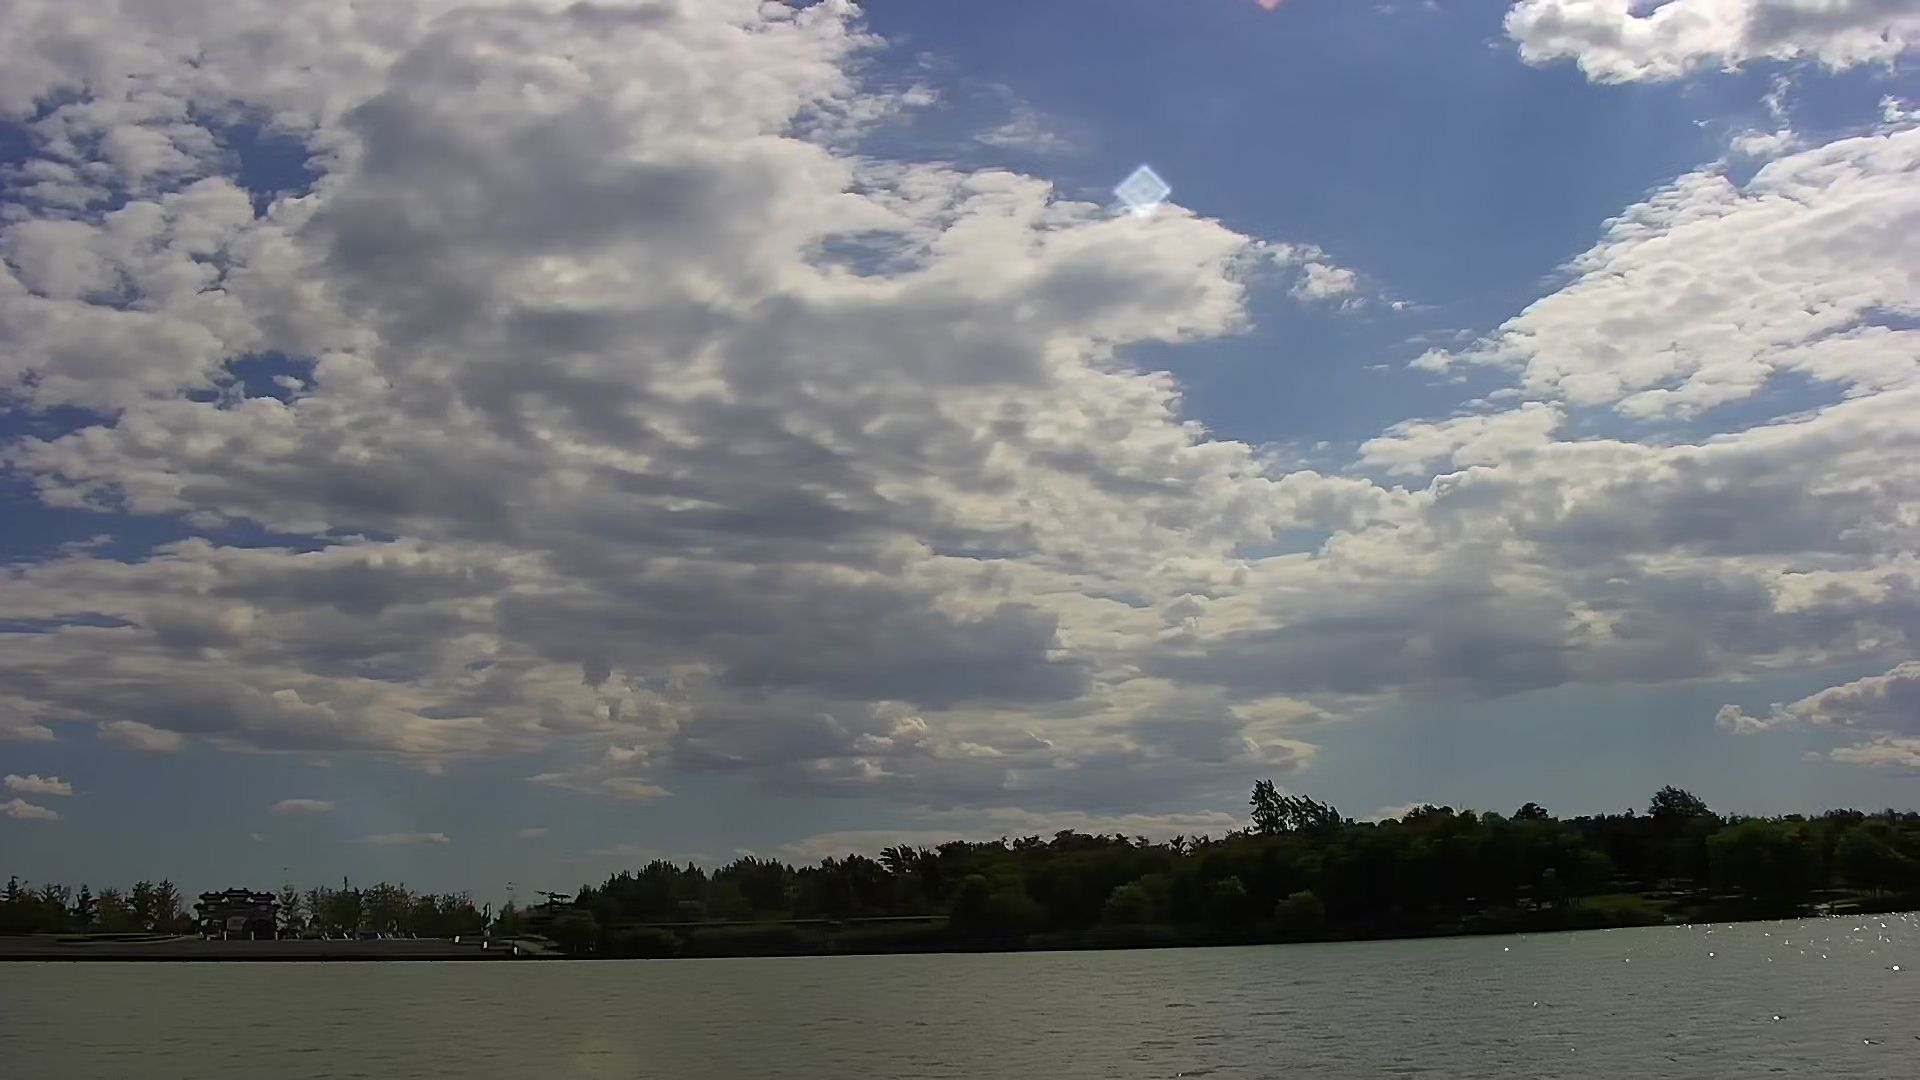harbor: (26, 924, 545, 963)
